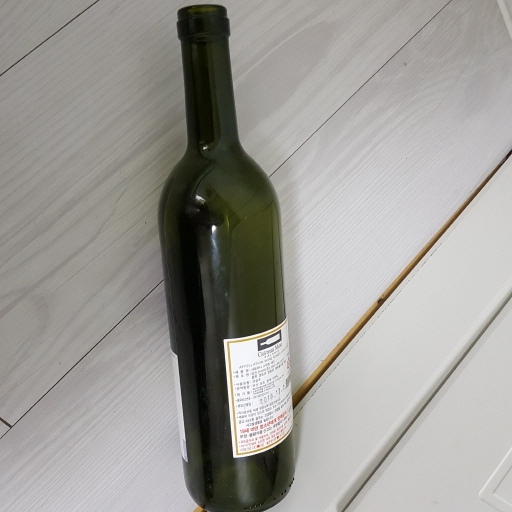Glass_2: (157, 6, 301, 509)
